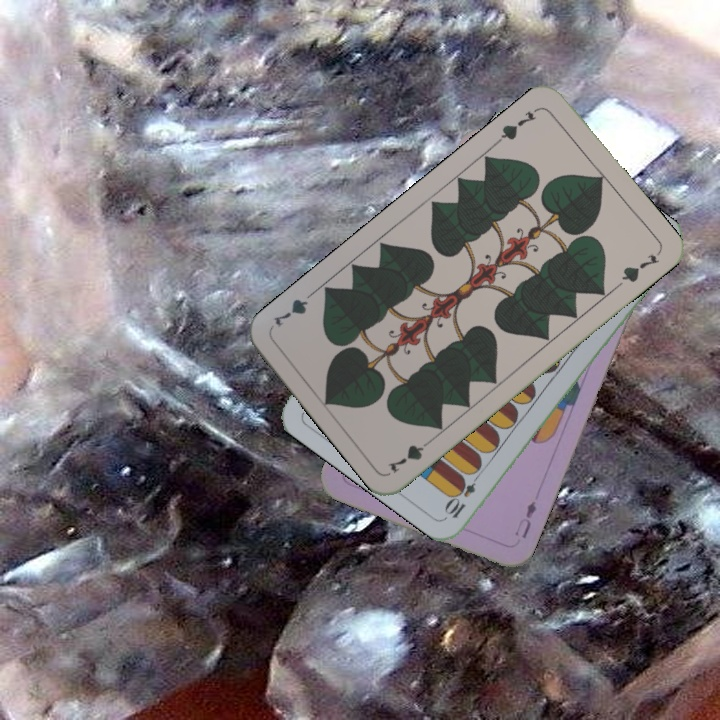E10: (442, 467, 484, 521)
EU: (510, 497, 539, 541)
G7: (384, 433, 437, 477), (492, 104, 542, 147)
